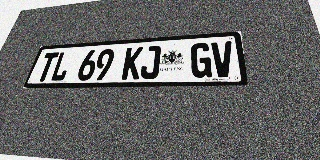6: (76, 50, 100, 81)
9: (92, 49, 115, 80)
G: (191, 42, 212, 78)
J: (139, 46, 161, 79)
K: (121, 47, 143, 80)
L: (49, 51, 73, 81)
T: (35, 52, 59, 82)
V: (211, 41, 235, 77)
